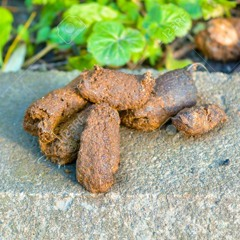Dog: (26, 69, 225, 186)
